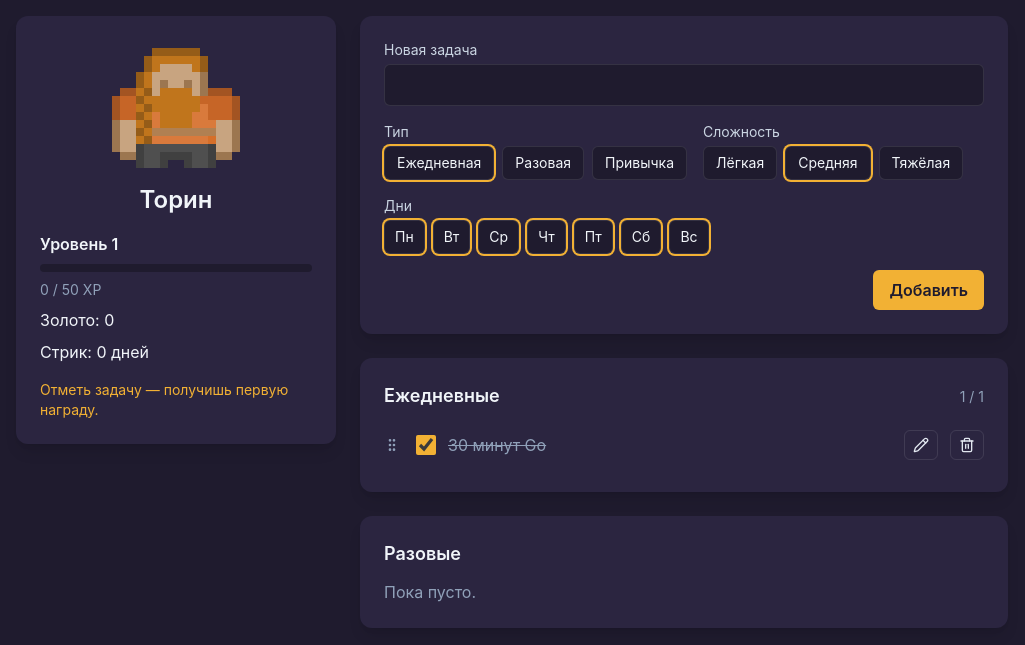
HomeView › shows a taken back reward without a level line
The width and height of the screenshot is (1025, 645).
Click the checkbox named "Выполнено: 30 минут Go": point(426, 445) [416,435,436,455]
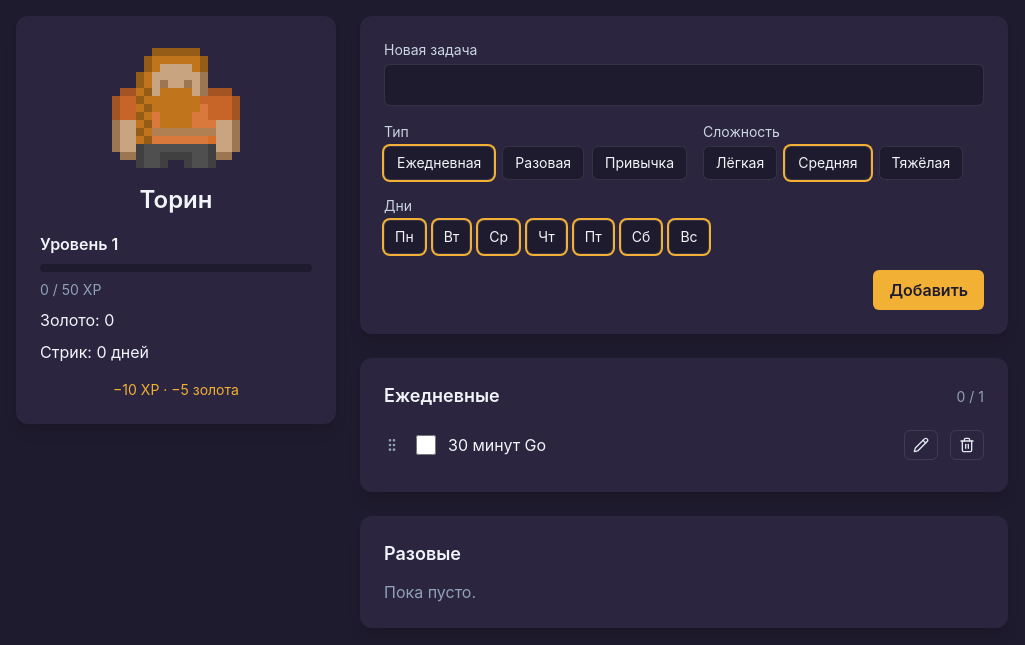
Expected: the message with test id "reward-notice" reads "−10 XP · −5 золота", [113,381,239,398]
